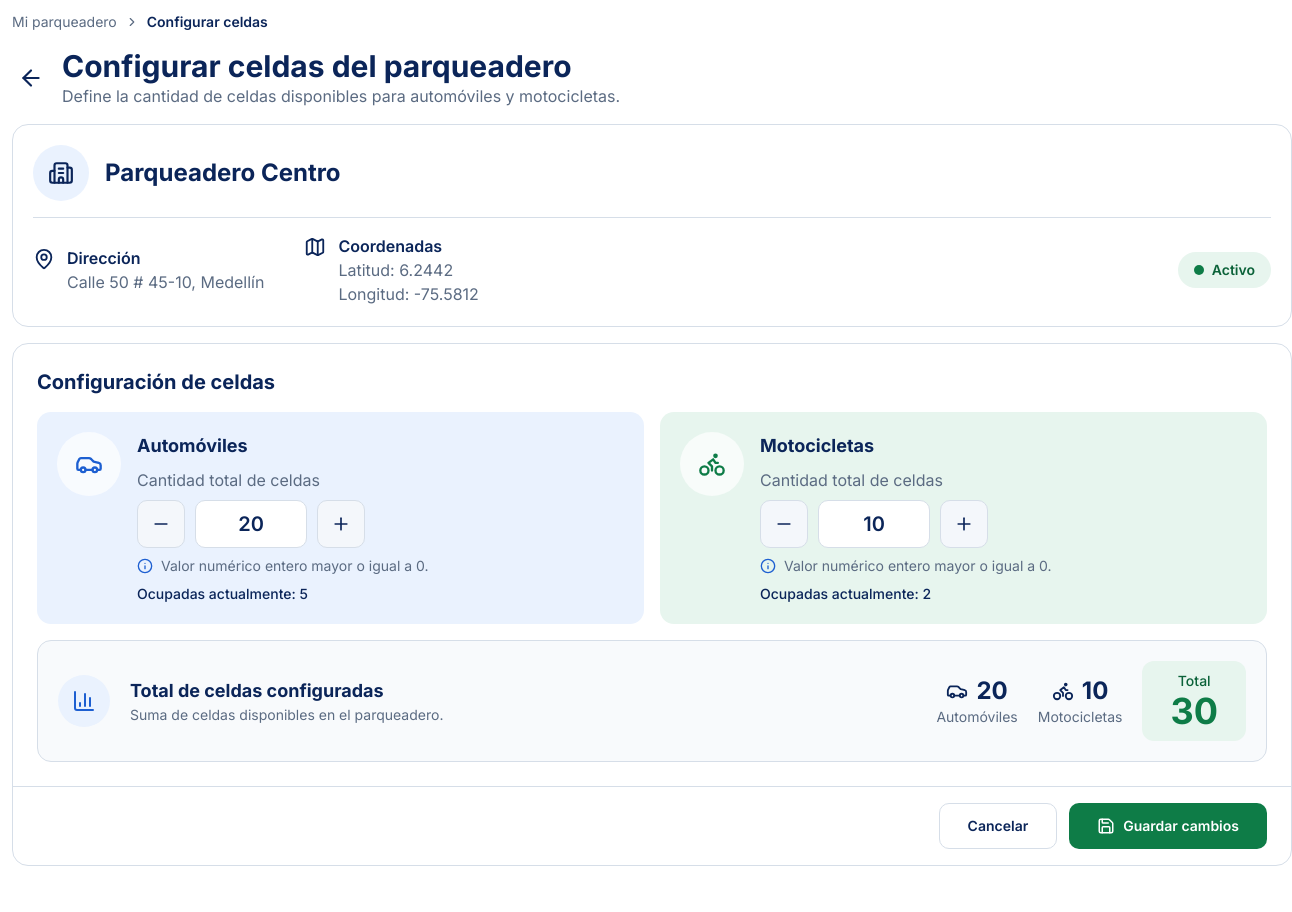
Test: ConfigureSpaces › recalcula el total al cambiar los valores
This screenshot has width=1292, height=912.
Expected: the text "30" is shown, [1170,691,1218,731]
Click the button named "Aumentar Celdas de Automóviles" at (341, 524), box [317,500,365,548]
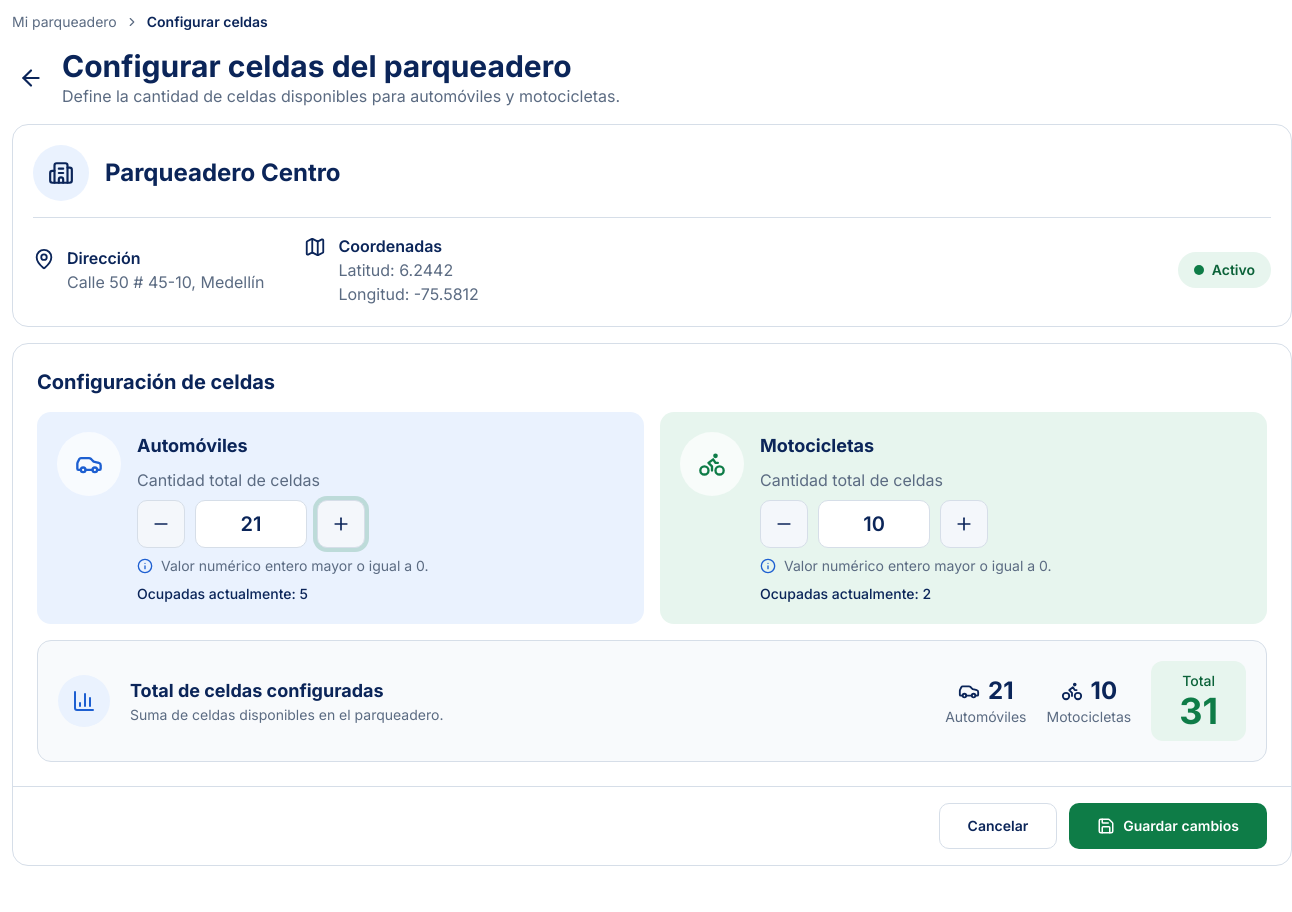
Now the text "31" is shown, box [1179,691,1218,731]
